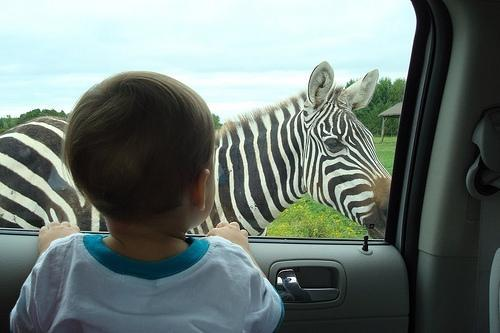car: (0, 0, 500, 329)
